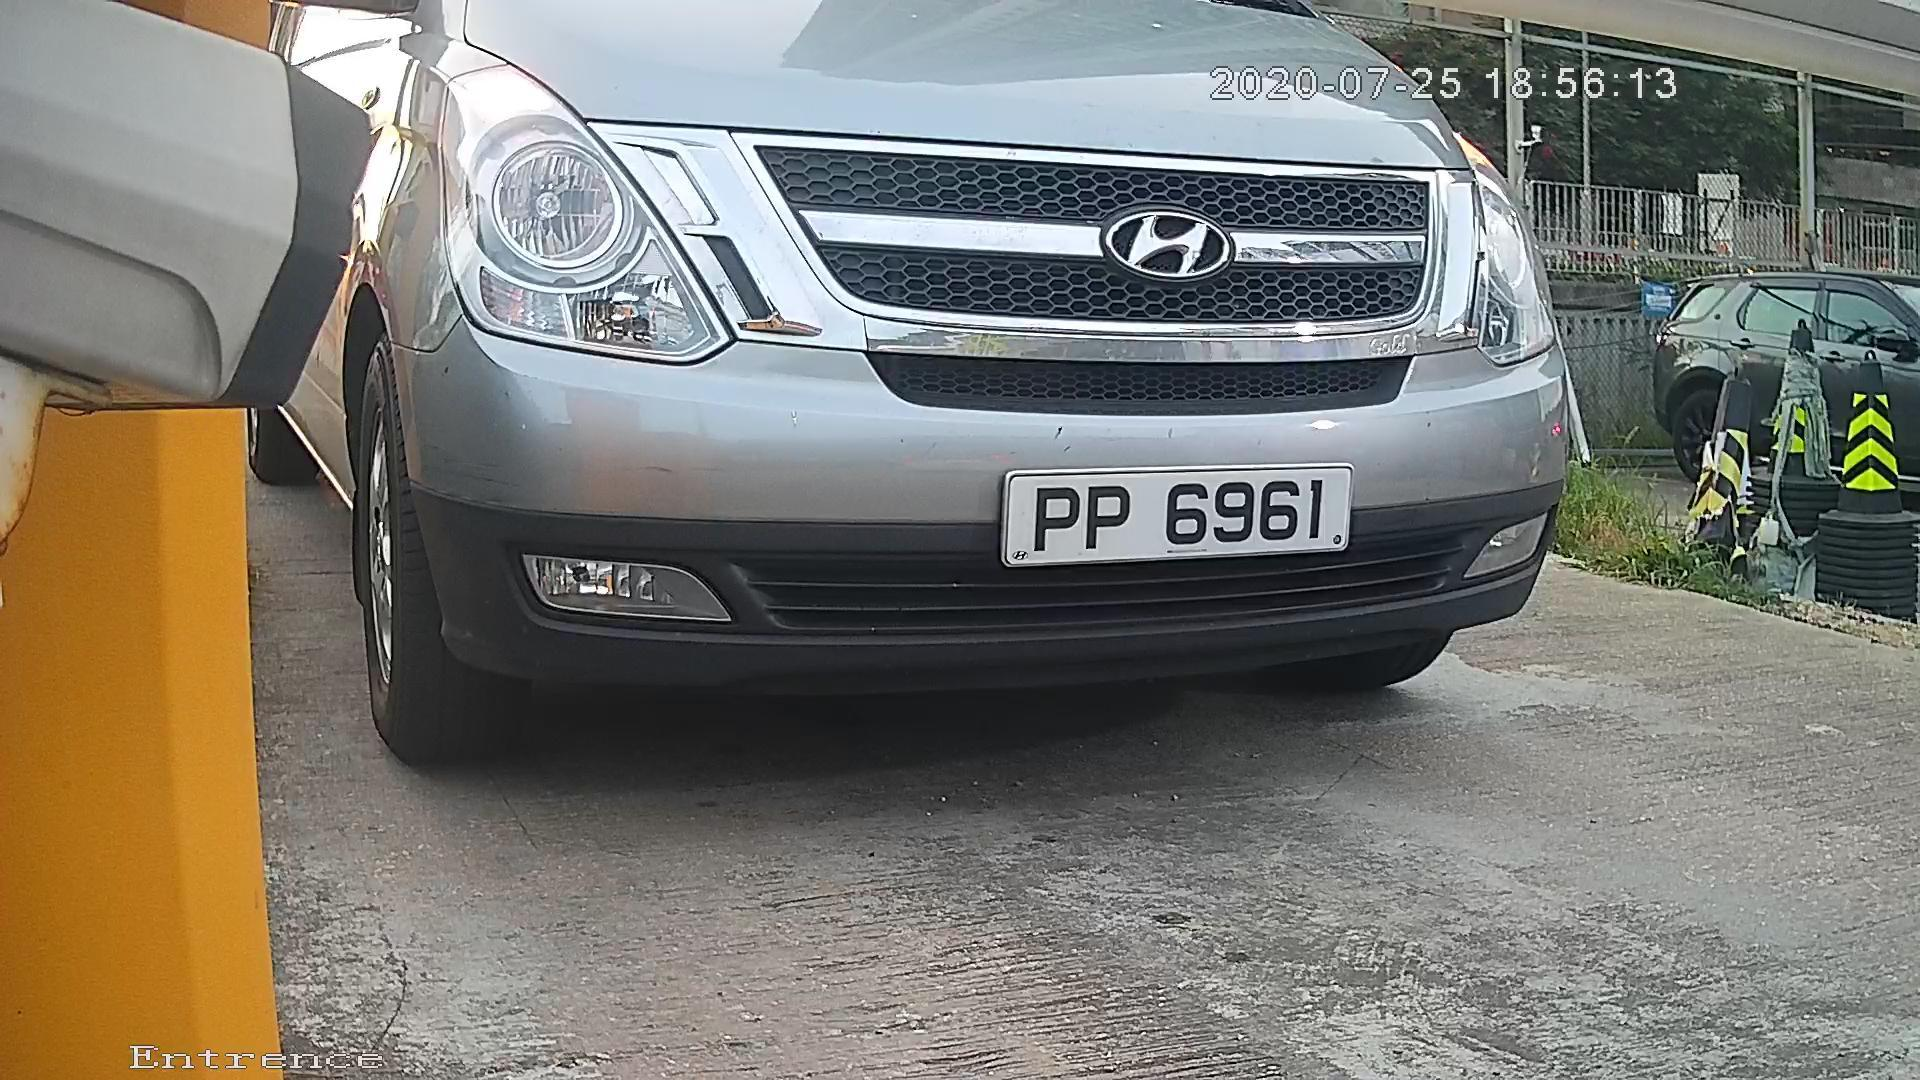privatecar: (266, 20, 1611, 767)
